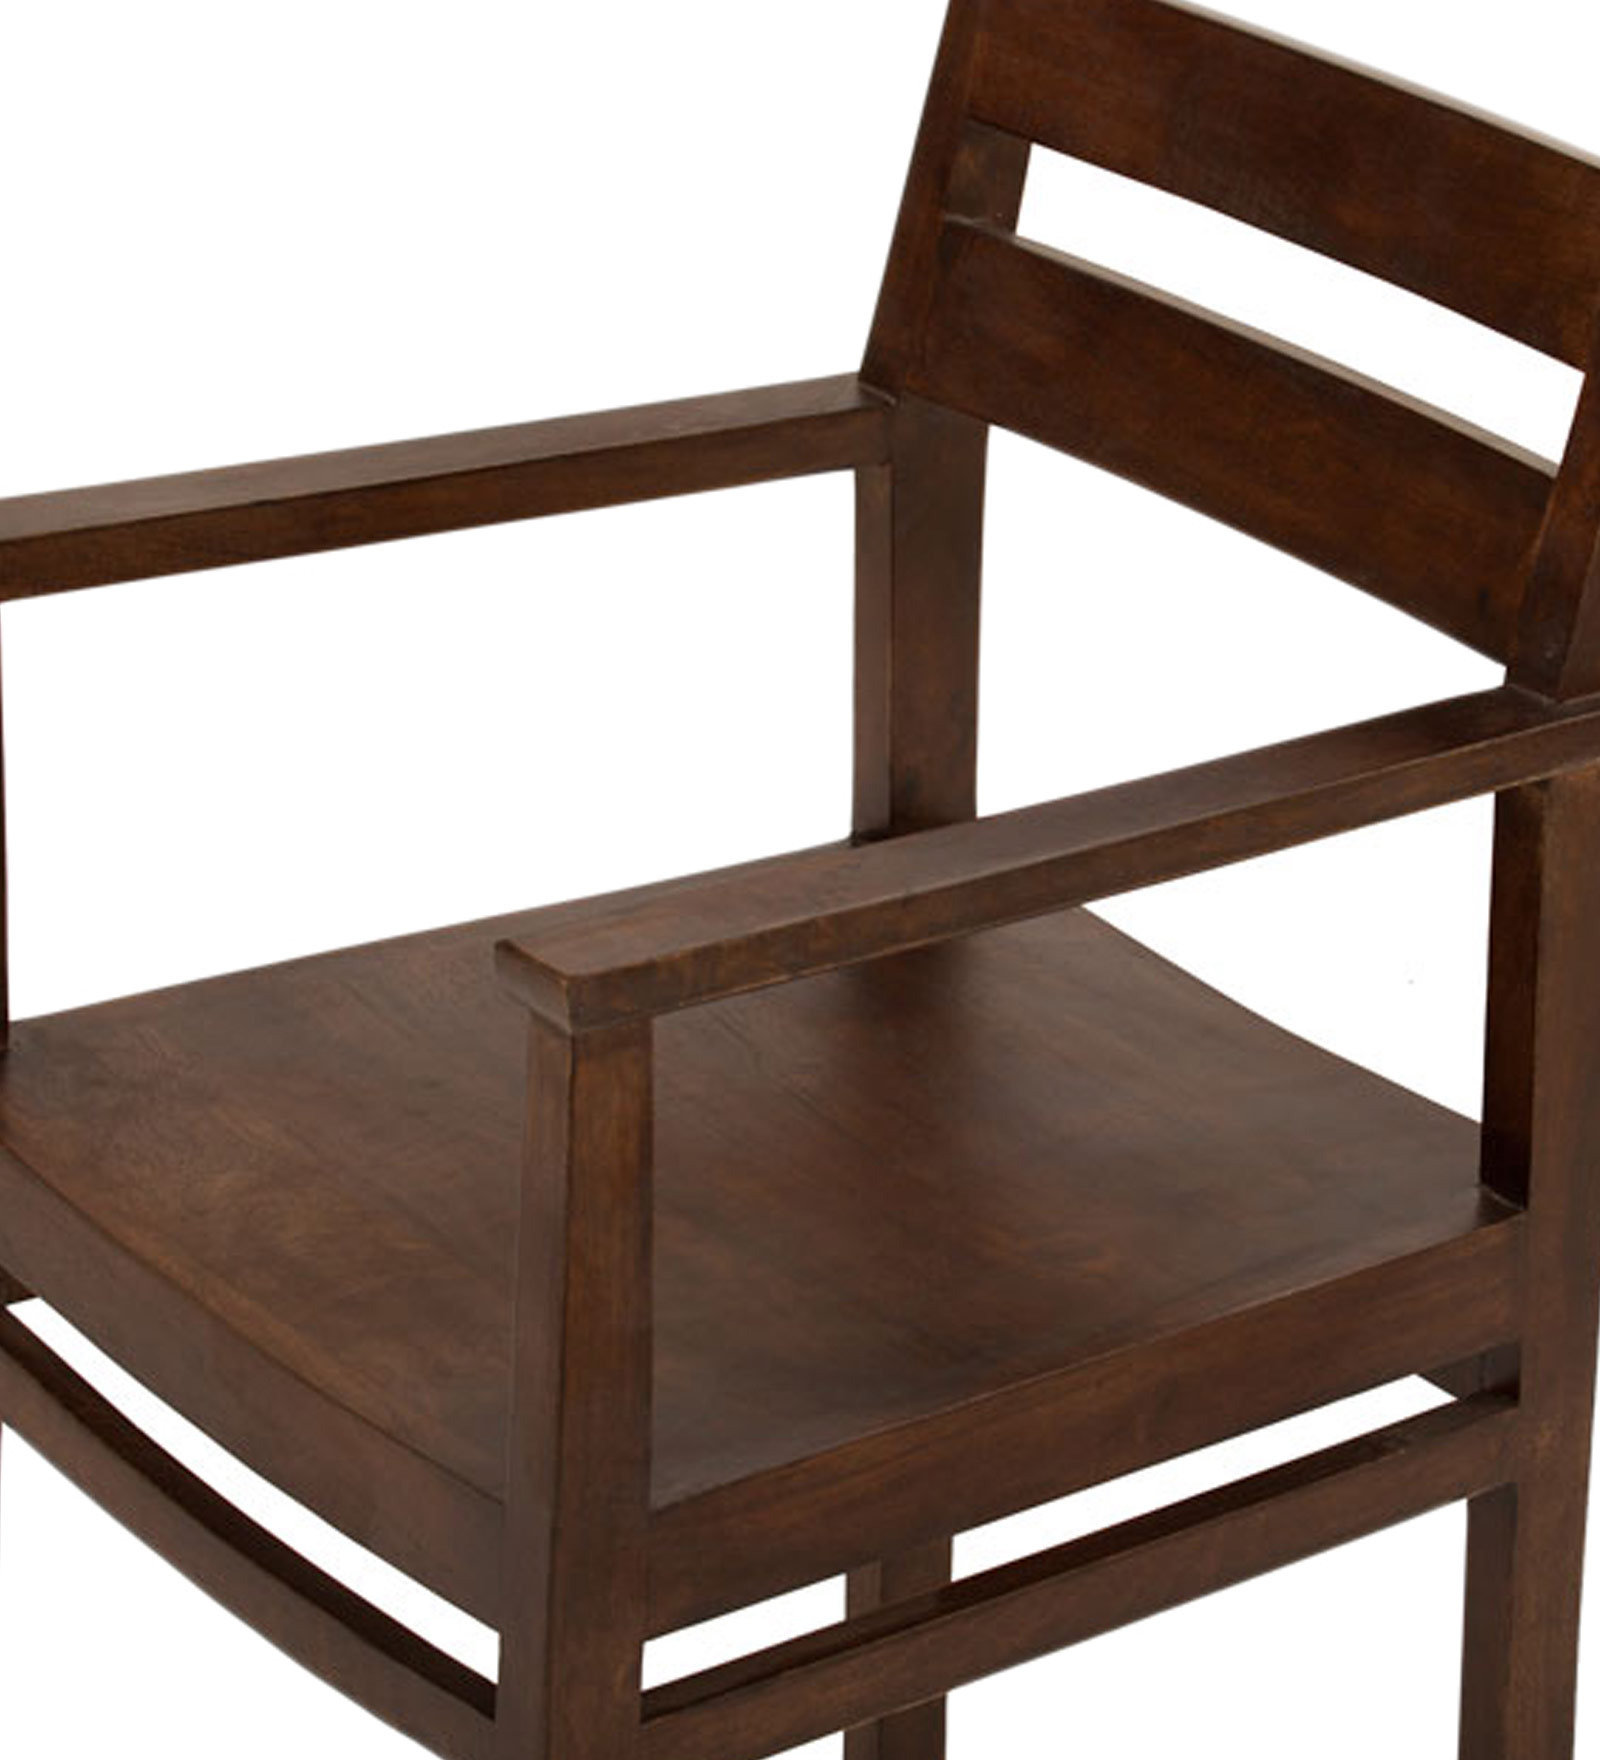Barcelona Solid Wood Arm Chair in Provincial Teak Finish by TheArmchair: (31, 44, 1600, 1739)
